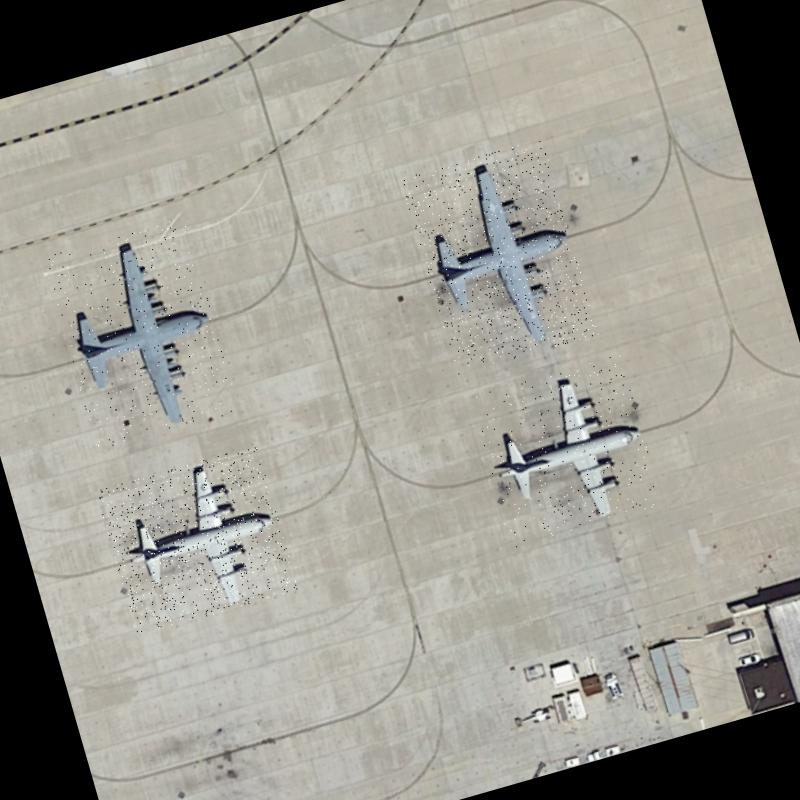A2: (400, 138, 598, 374), (42, 216, 240, 451)
A9: (95, 444, 298, 636), (468, 353, 664, 548)
